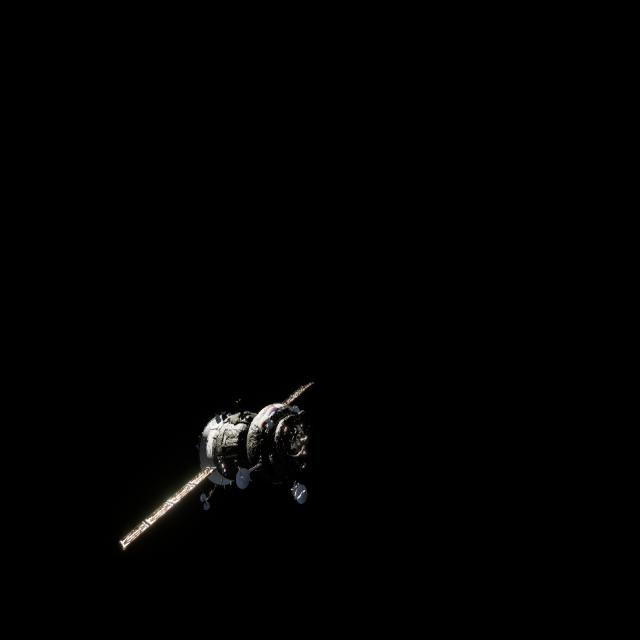Satellites revolving around earth: (116, 377, 318, 554)
